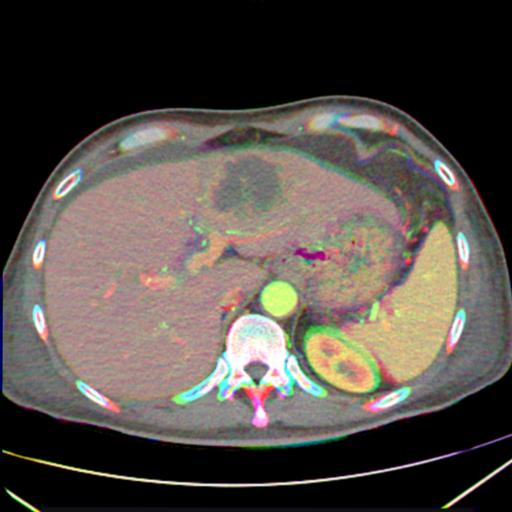Tumor: (213, 155, 280, 213)
